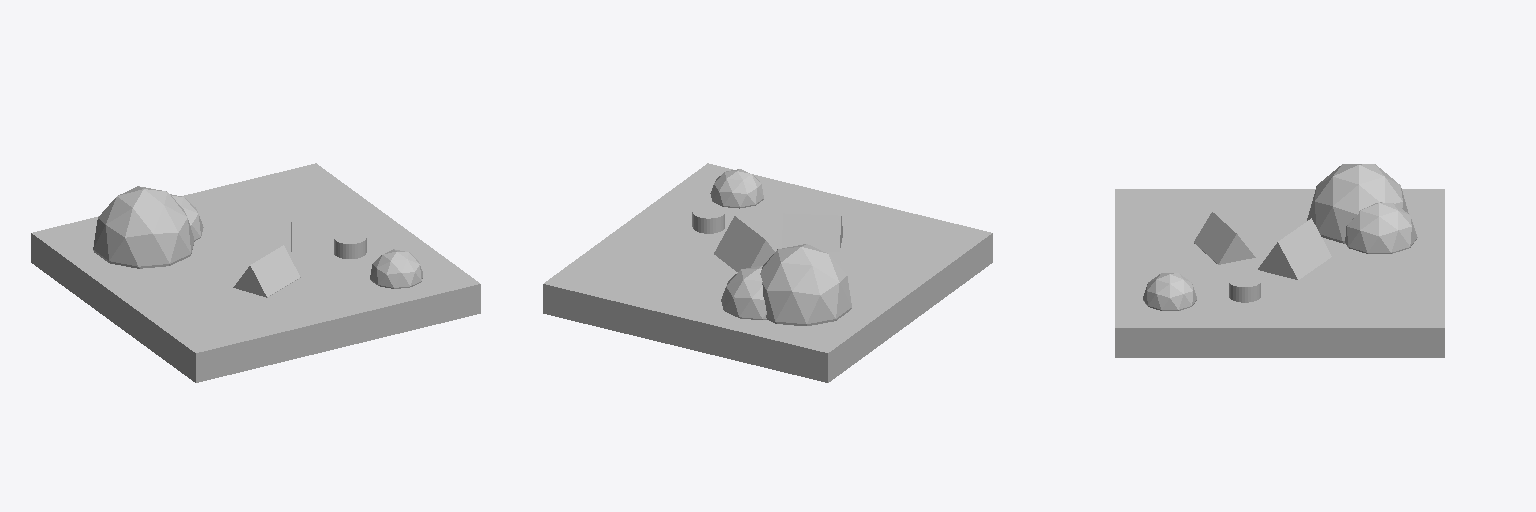
File: camp.obj
The picture shows the model from 3 angles: view 1: azimuth 30°, elevation 25°; view 2: azimuth 150°, elevation 25°; view 3: azimuth 270°, elevation 25°; orthographic projection.
Parts seen in each view (by area): view 1: Cube; view 2: Cube; view 3: Cube.
Part boxes in pixels (x1,y1,x2,y2): Cube: (31, 163, 480, 382); Cube: (543, 163, 992, 382); Cube: (1115, 164, 1444, 357).
Size of the model in its own units: 20 by 7.48 by 20.